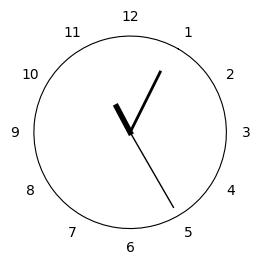12: (122, 9, 139, 22)
circle: (33, 36, 226, 229)
hours: (113, 102, 132, 136)
minutes: (130, 70, 162, 130)
seconds: (131, 135, 173, 207)
